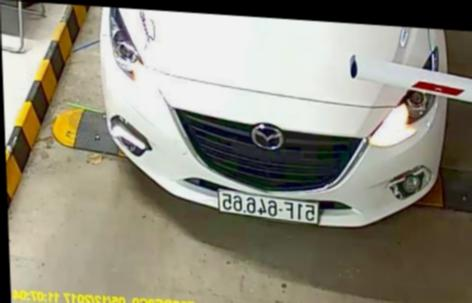License_Plate: (216, 189, 324, 224)
